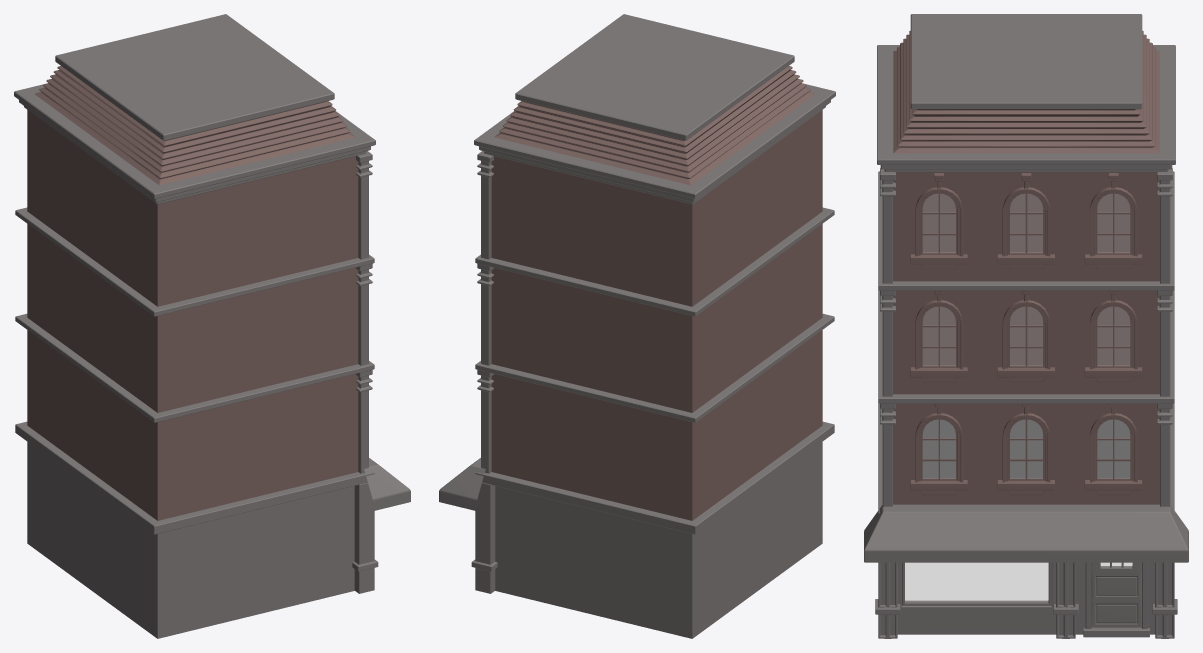
File: Building_4.fbx
3 renders of one model, left to right at view 1: azimuth 30°, elevation 25°; view 2: azimuth 150°, elevation 25°; view 3: azimuth 270°, elevation 25°, orthographic. The views are drawn at different scales.
Parts seen in each view (by area): view 1: Building_4_GEO; view 2: Building_4_GEO; view 3: Building_4_GEO.
Boxes of the visible parts, x1,y1,x2,y2 form: Building_4_GEO: (14, 14, 410, 638); Building_4_GEO: (439, 14, 835, 638); Building_4_GEO: (864, 14, 1188, 638).
Bounding box in the file's own units: 6.16 × 11.54 × 6.49.
